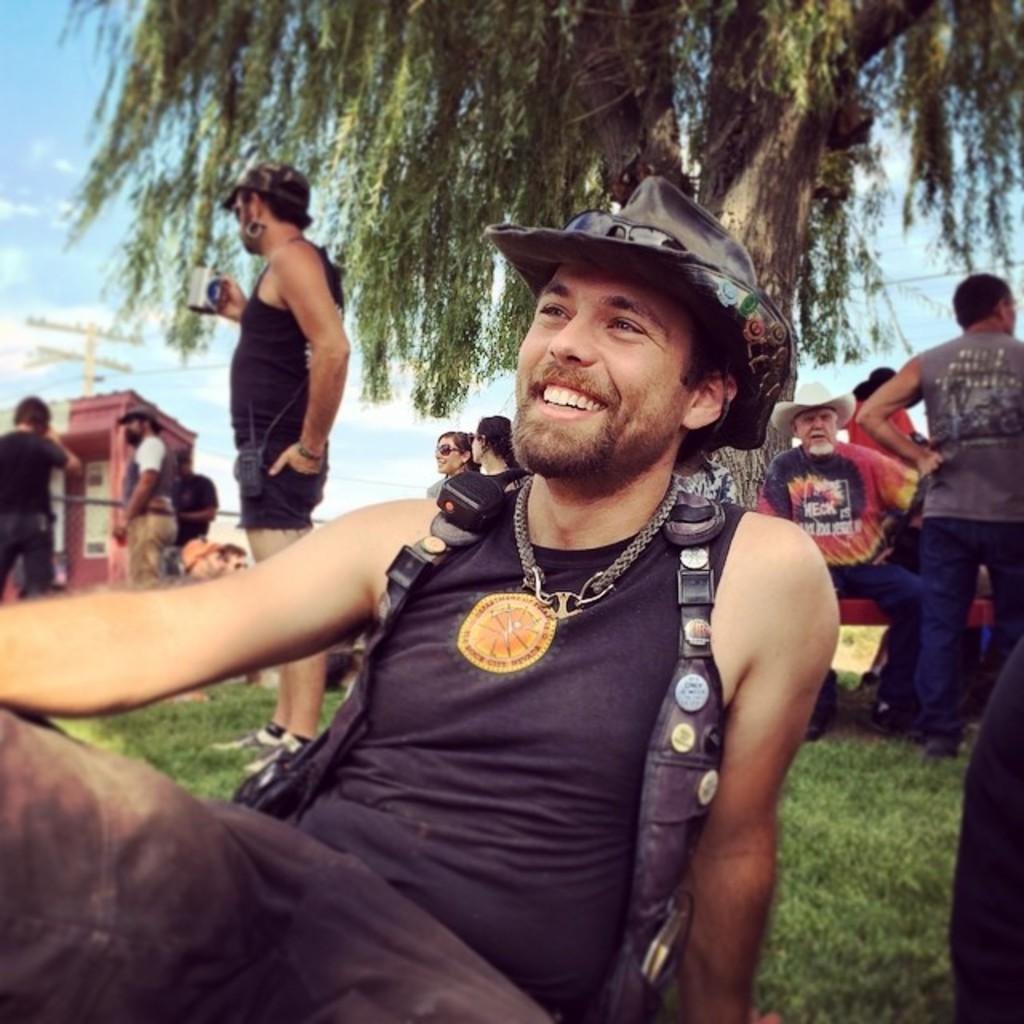Hat: (480, 176, 794, 452), (770, 376, 856, 434), (218, 155, 310, 209), (112, 398, 160, 427)
